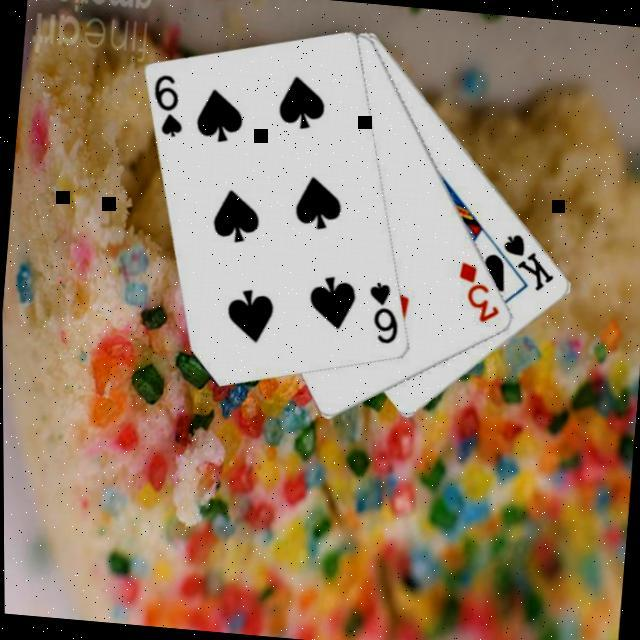3D: (452, 259, 508, 329)
6S: (363, 279, 406, 350), (148, 72, 191, 143)
KS: (497, 231, 562, 297)
